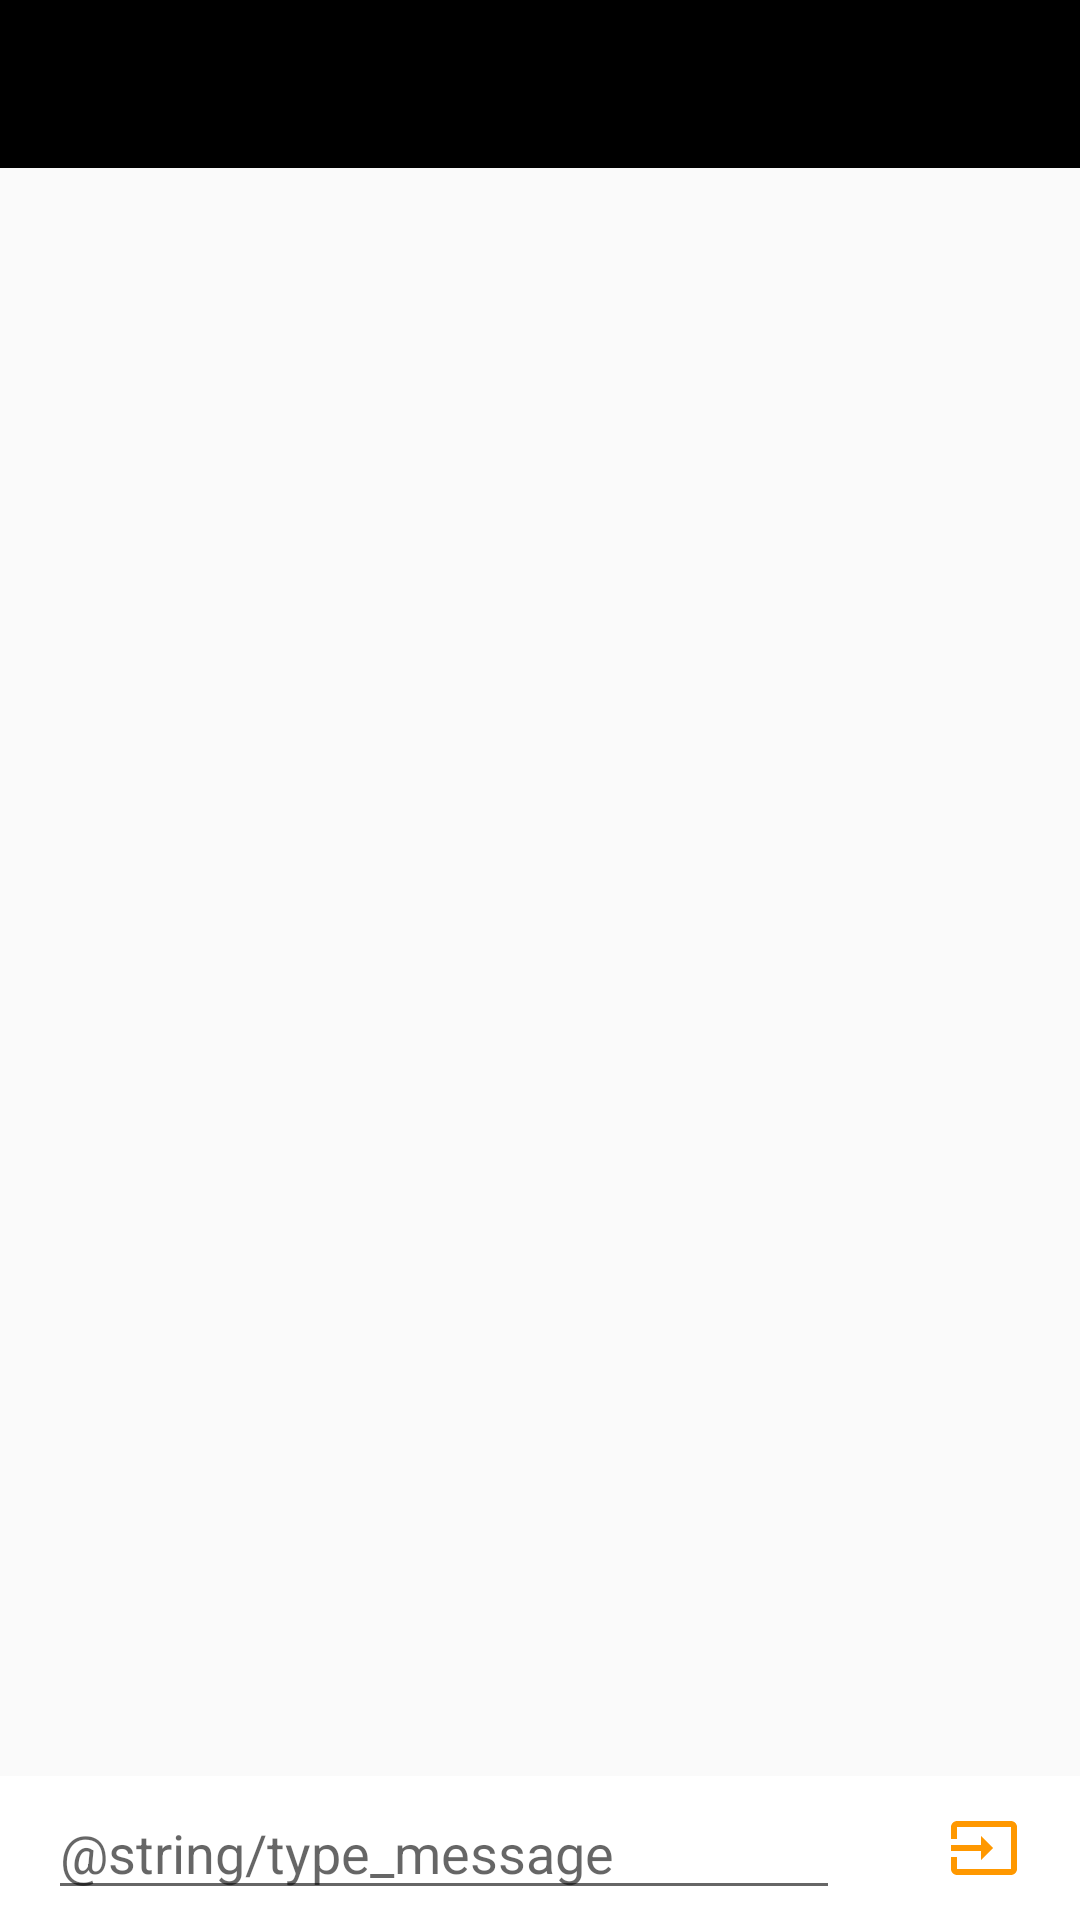

Icon bounding boxes for this 1080w x 1920h phone screenshot, format (x1, y1, x2, y2):
input: (951, 1821, 1017, 1875)
